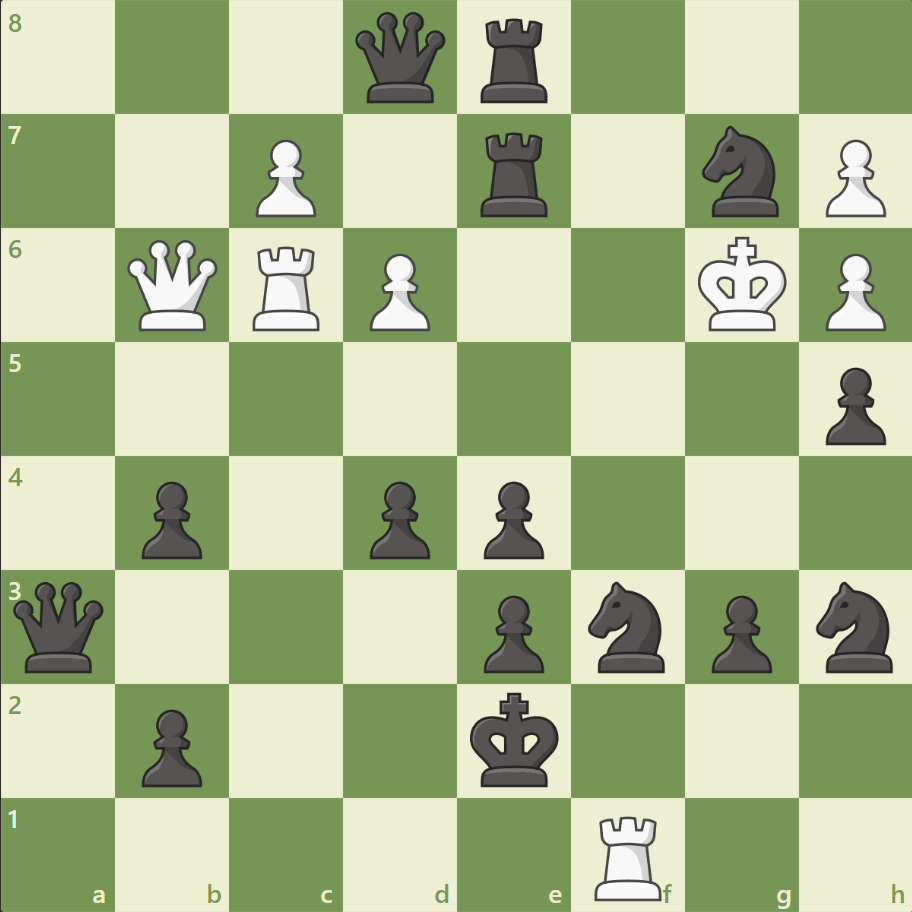K: (692, 231, 792, 339)
P: (247, 132, 322, 223), (815, 132, 889, 223), (361, 246, 435, 337), (815, 246, 889, 337)
Q: (124, 236, 223, 335)
R: (587, 806, 670, 904), (246, 239, 329, 336)
k: (465, 685, 565, 793)
n: (692, 121, 789, 223), (579, 575, 676, 677), (806, 575, 903, 677)
p: (133, 473, 208, 564), (474, 473, 549, 564), (474, 586, 549, 677), (701, 586, 776, 677), (133, 700, 208, 791), (815, 359, 889, 450), (361, 473, 435, 564)
q: (10, 576, 109, 676), (351, 9, 450, 108)
r: (473, 12, 556, 109), (473, 125, 556, 222)
